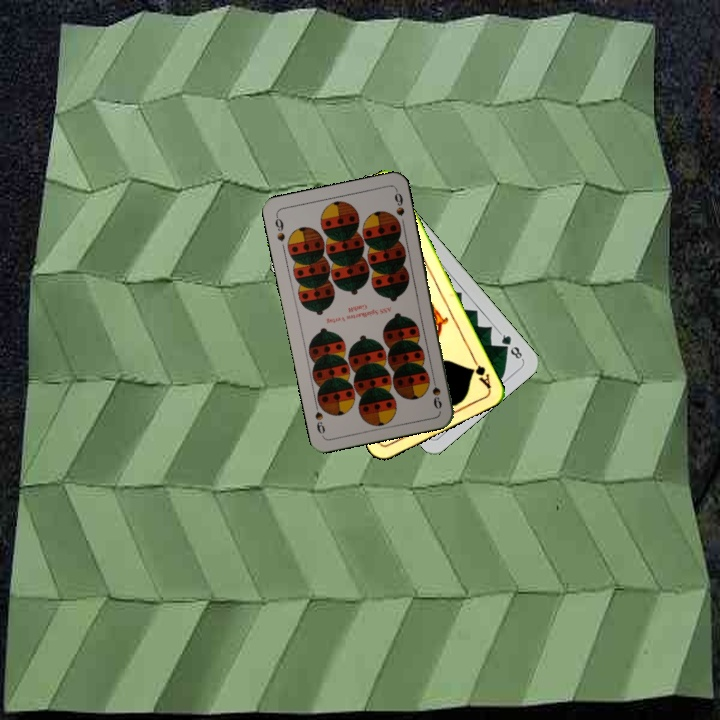G8: (495, 328, 525, 362)
GA: (467, 353, 494, 391)
S9: (428, 372, 444, 412), (271, 211, 288, 244)
